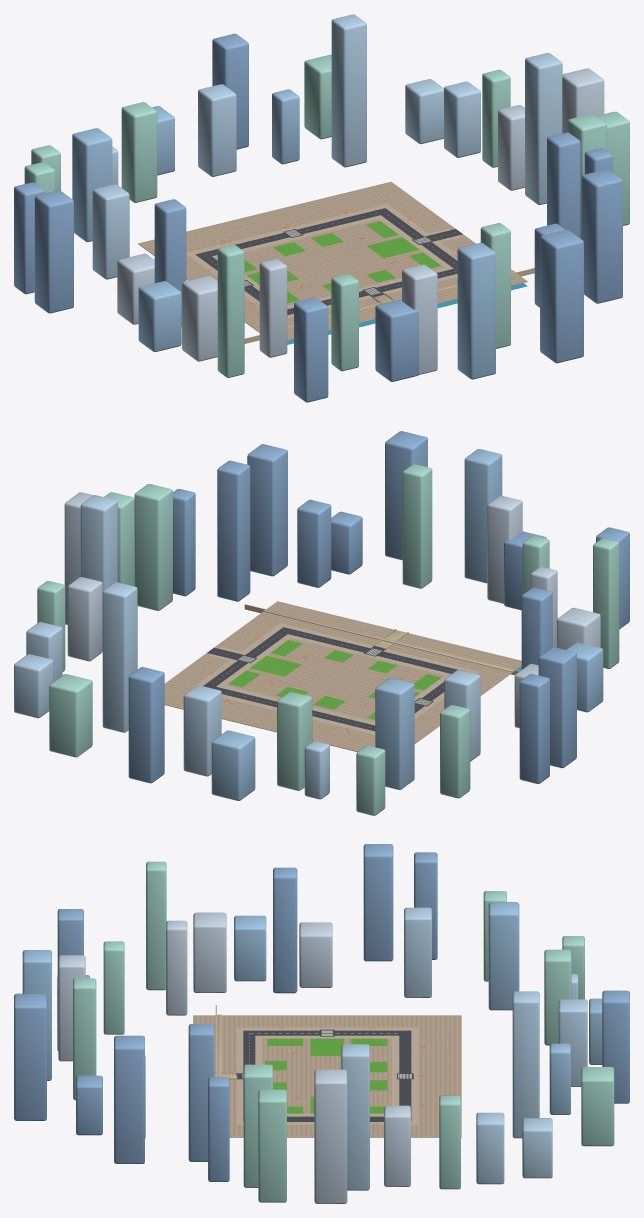
File: city_ground.gltf
3 renders of one model, top to bottom at view 1: azimuth 30°, elevation 25°; view 2: azimuth 150°, elevation 25°; view 3: azimuth 270°, elevation 25°, orthographic.
Visible parts, largest first — view 1: backdrop, ground_p-col, ground_s-col, ground_a-col, ground_g-col, base_slab-col, road_marks; view 2: backdrop, ground_p-col, ground_s-col, base_slab-col, ground_a-col, ground_g-col, embank-col; view 3: backdrop, ground_p-col, ground_s-col, ground_a-col, ground_g-col, base_slab-col.
Part boxes in pixels (bbox=[...]): backdrop: bbox=[14, 14, 629, 402]; ground_p-col: bbox=[145, 184, 471, 327]; ground_s-col: bbox=[186, 204, 460, 318]; ground_a-col: bbox=[195, 208, 462, 315]; ground_g-col: bbox=[244, 221, 441, 303]; base_slab-col: bbox=[138, 181, 527, 340]; road_marks: bbox=[202, 209, 457, 307]; backdrop: bbox=[14, 431, 629, 815]; ground_p-col: bbox=[164, 612, 507, 749]; ground_s-col: bbox=[190, 623, 479, 734]; base_slab-col: bbox=[164, 601, 521, 751]; ground_a-col: bbox=[203, 627, 457, 731]; ground_g-col: bbox=[228, 640, 441, 719]; embank-col: bbox=[263, 609, 514, 672]; backdrop: bbox=[14, 844, 629, 1203]; ground_p-col: bbox=[221, 1017, 456, 1134]; ground_s-col: bbox=[236, 1027, 418, 1124]; ground_a-col: bbox=[236, 1030, 411, 1121]; ground_g-col: bbox=[265, 1038, 387, 1113]; base_slab-col: bbox=[193, 1015, 461, 1137].
Size of what is drawn, in the model's own units: 503 by 131 by 514.
13 materials, 6 textured.
